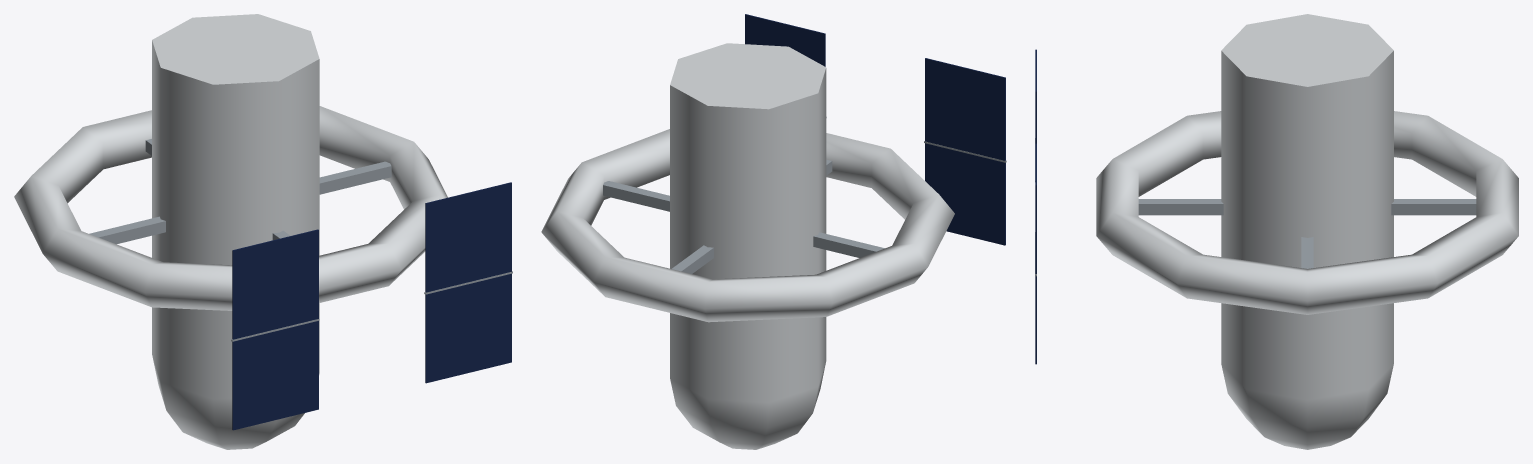
File: space_orbital_station_t1_lod1.glb
3 renders of one model, left to right at view 1: azimuth 30°, elevation 25°; view 2: azimuth 150°, elevation 25°; view 3: azimuth 270°, elevation 25°, orthographic. The views are drawn at different scales.
Parts seen in each view (by area): view 1: body, ring, solar_1, solar_0; view 2: body, ring, solar_1, solar_0; view 3: body, ring.
Part boxes in pixels (bbox=[...]): body: bbox=[152, 14, 319, 449]; ring: bbox=[14, 106, 447, 310]; solar_1: bbox=[231, 229, 319, 430]; solar_0: bbox=[424, 182, 512, 383]; body: bbox=[670, 43, 826, 449]; ring: bbox=[541, 129, 954, 322]; solar_1: bbox=[924, 58, 1006, 245]; solar_0: bbox=[745, 14, 826, 117]; body: bbox=[1221, 14, 1393, 449]; ring: bbox=[1096, 111, 1518, 314].
Bounding box in the file's own units: 18 × 17.5 × 19.6.
